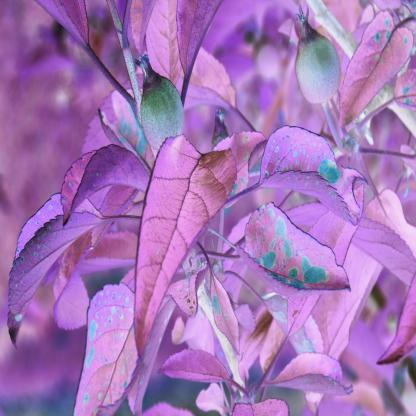Apple rust leaf: (256, 121, 372, 229), (238, 202, 359, 302), (337, 8, 416, 150), (77, 278, 137, 416)
